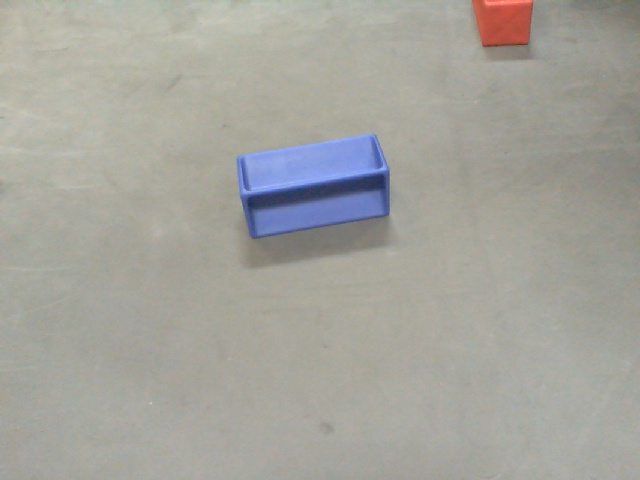BlueSample: (234, 135, 394, 237)
RedSample: (470, 1, 538, 51)
